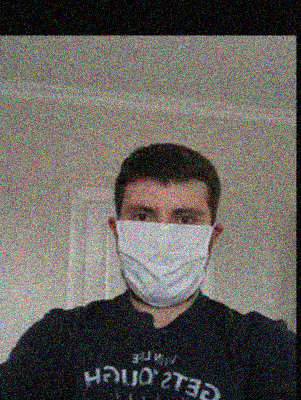with_mask: (116, 194, 214, 307)
